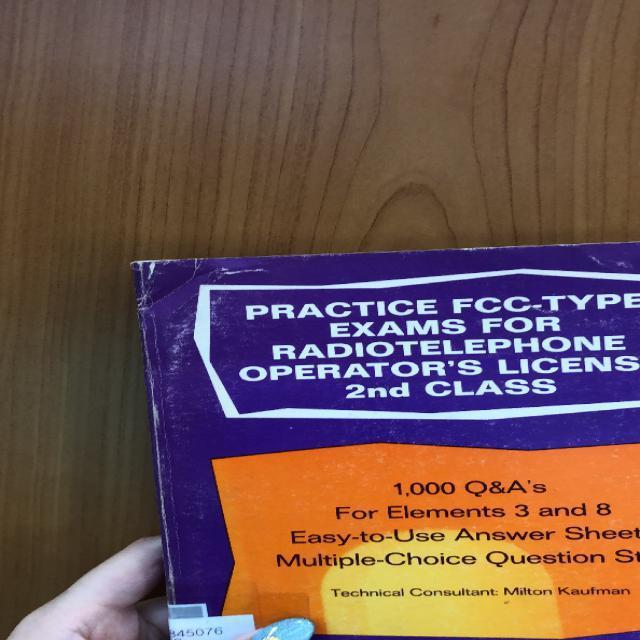Wornout: (134, 308, 184, 594), (457, 238, 639, 255), (119, 253, 208, 280), (252, 247, 352, 263), (372, 244, 458, 260), (208, 254, 244, 263)
